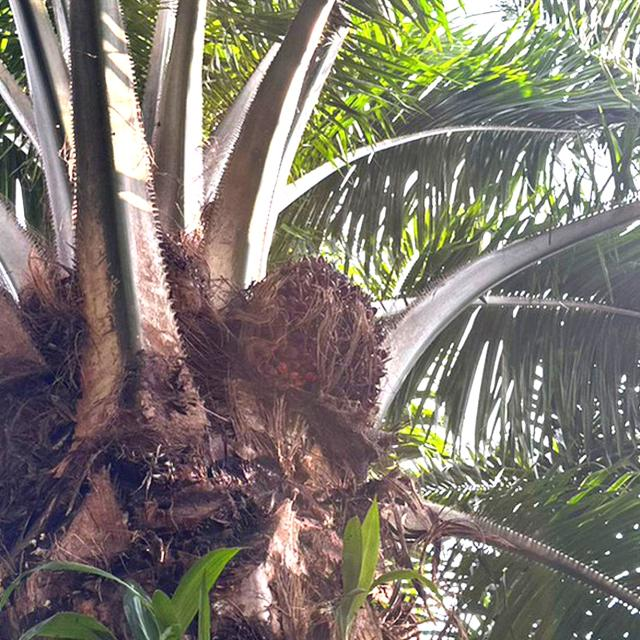ripe: (228, 242, 400, 434)
